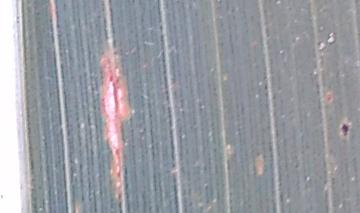tarspot: (338, 121, 350, 140), (15, 15, 20, 27), (263, 83, 269, 91), (286, 6, 293, 12)
